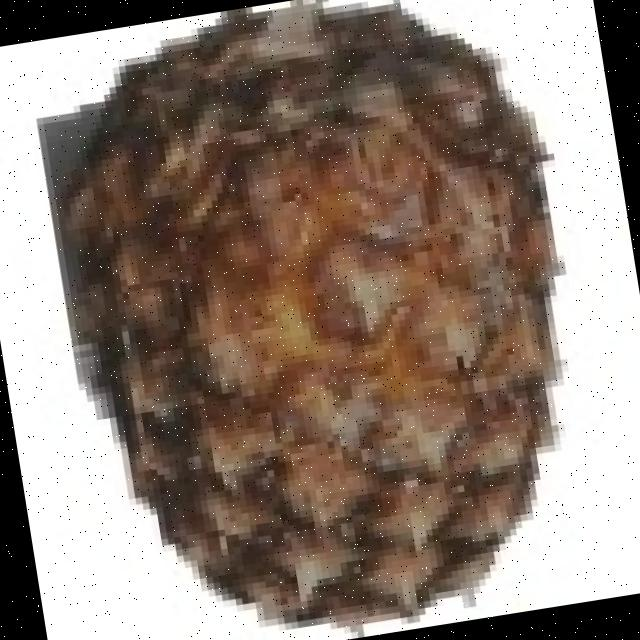pineapple: (70, 15, 568, 631)
